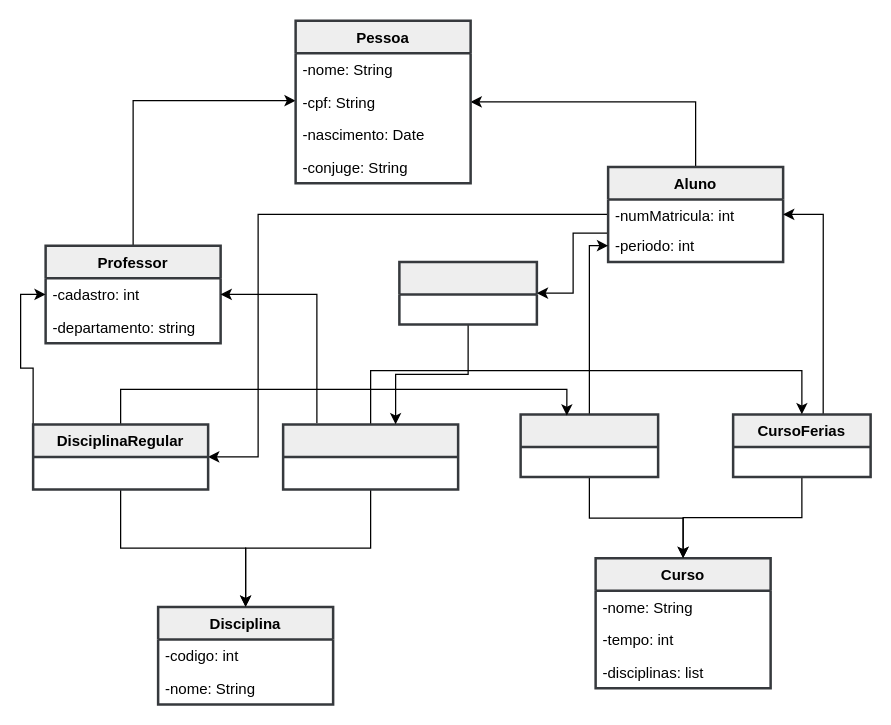
Some shapes in this 891 by 725 pixel diagram are drawn without their labels. Here are the shapes that lost their labels. From the top down, the box of each, then its label:
(398, 260, 538, 325): PreMtricula
(281, 422, 459, 490): DisciplinaFerias
(519, 412, 659, 478): CursoRegular
